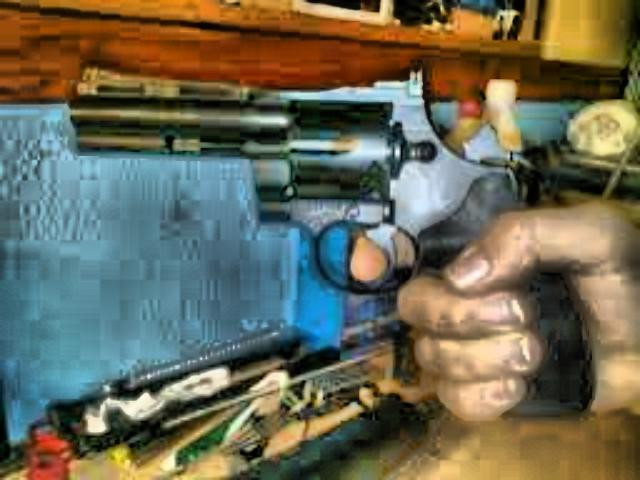pistol: (62, 53, 600, 425)
